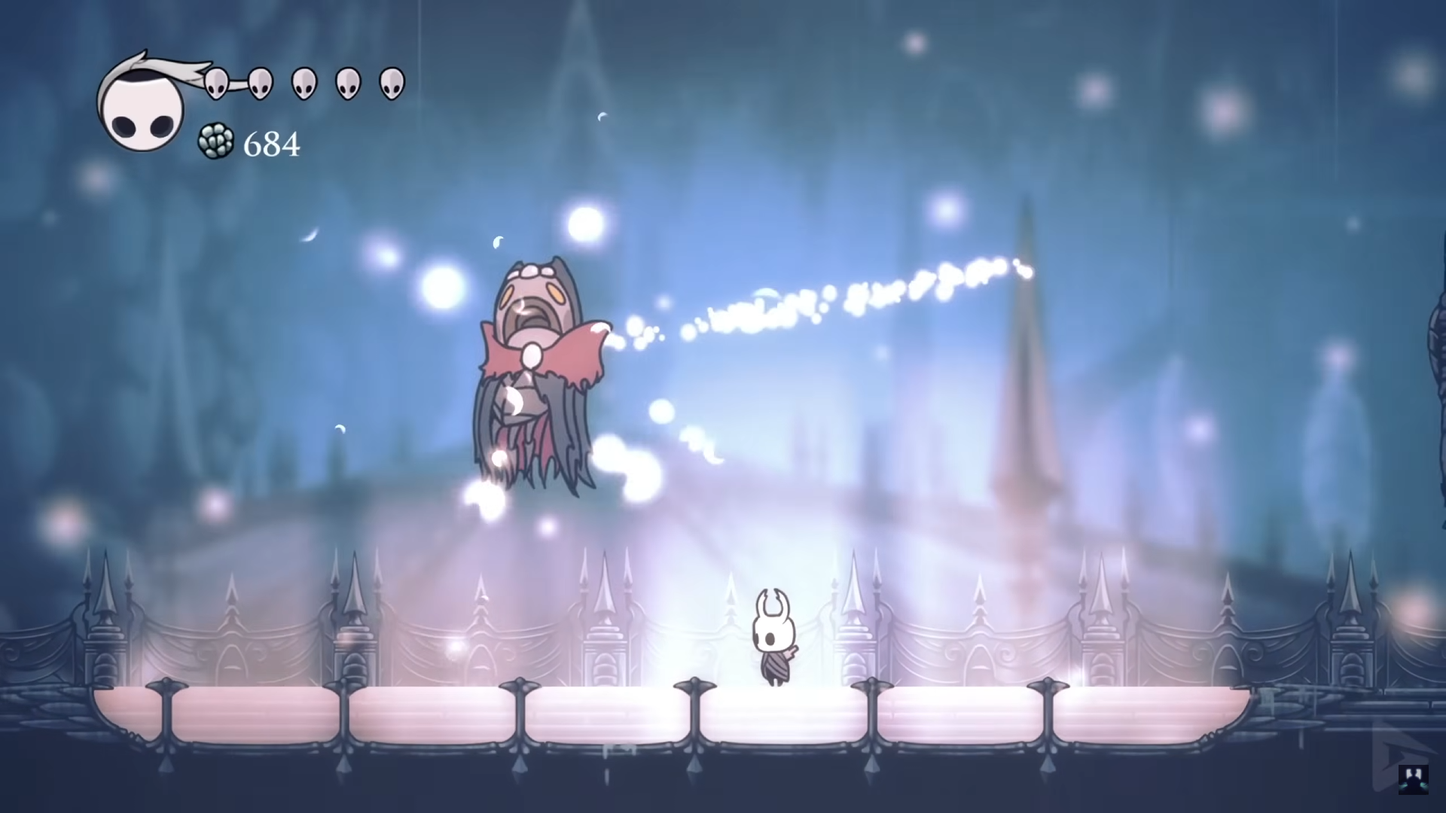HK: (744, 583, 803, 694)
